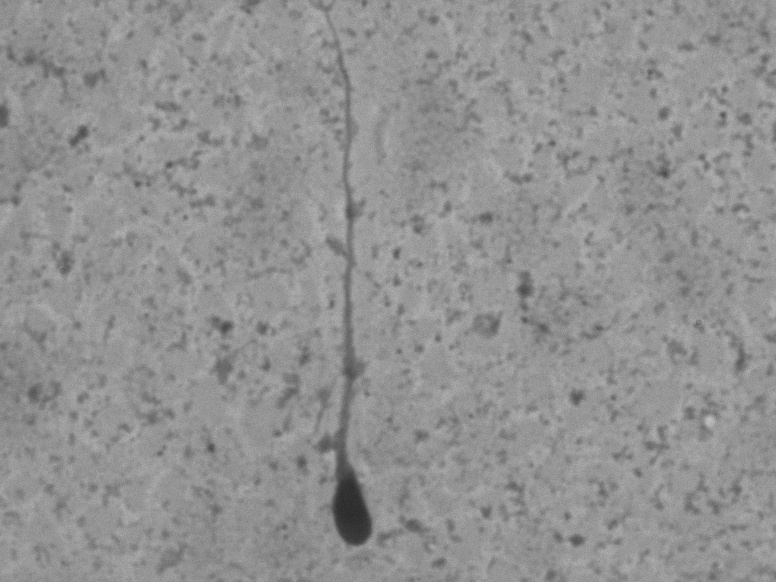Abnormal: (285, 18, 408, 558)
